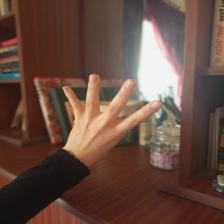four: (41, 69, 168, 173)
